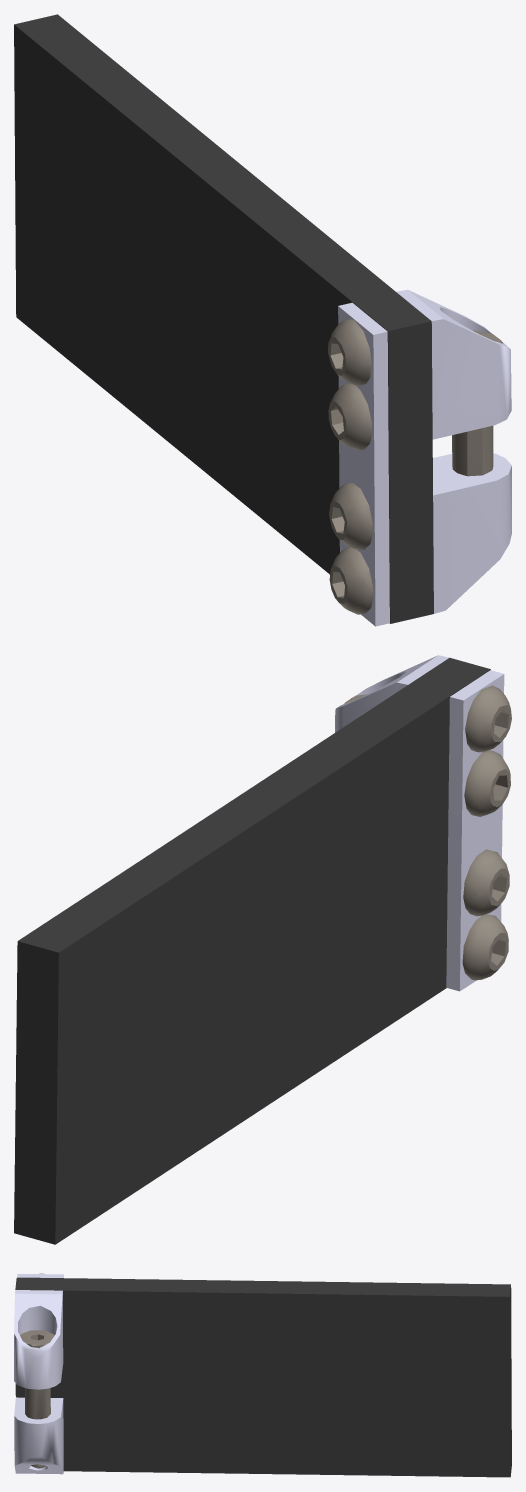
Rendered from left-heel-spring.obj.
3 views of the same model, one above another, from view 1: azimuth 30°, elevation 25°; view 2: azimuth 150°, elevation 25°; view 3: azimuth 270°, elevation 25° (orthographic). The views are drawn at different scales.
Parts seen in each view (by area): view 1: left_heel_spring; view 2: left_heel_spring; view 3: left_heel_spring.
Boxes of the visible parts, bbox=[...] form: left_heel_spring: bbox=[14, 14, 511, 626]; left_heel_spring: bbox=[14, 655, 511, 1244]; left_heel_spring: bbox=[14, 1273, 511, 1477].
Size of the model in its own units: 0.0298 by 0.0507 by 0.1255.
1 material, 1 textured.
